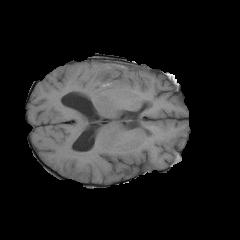glioma: (76, 60, 143, 95)
